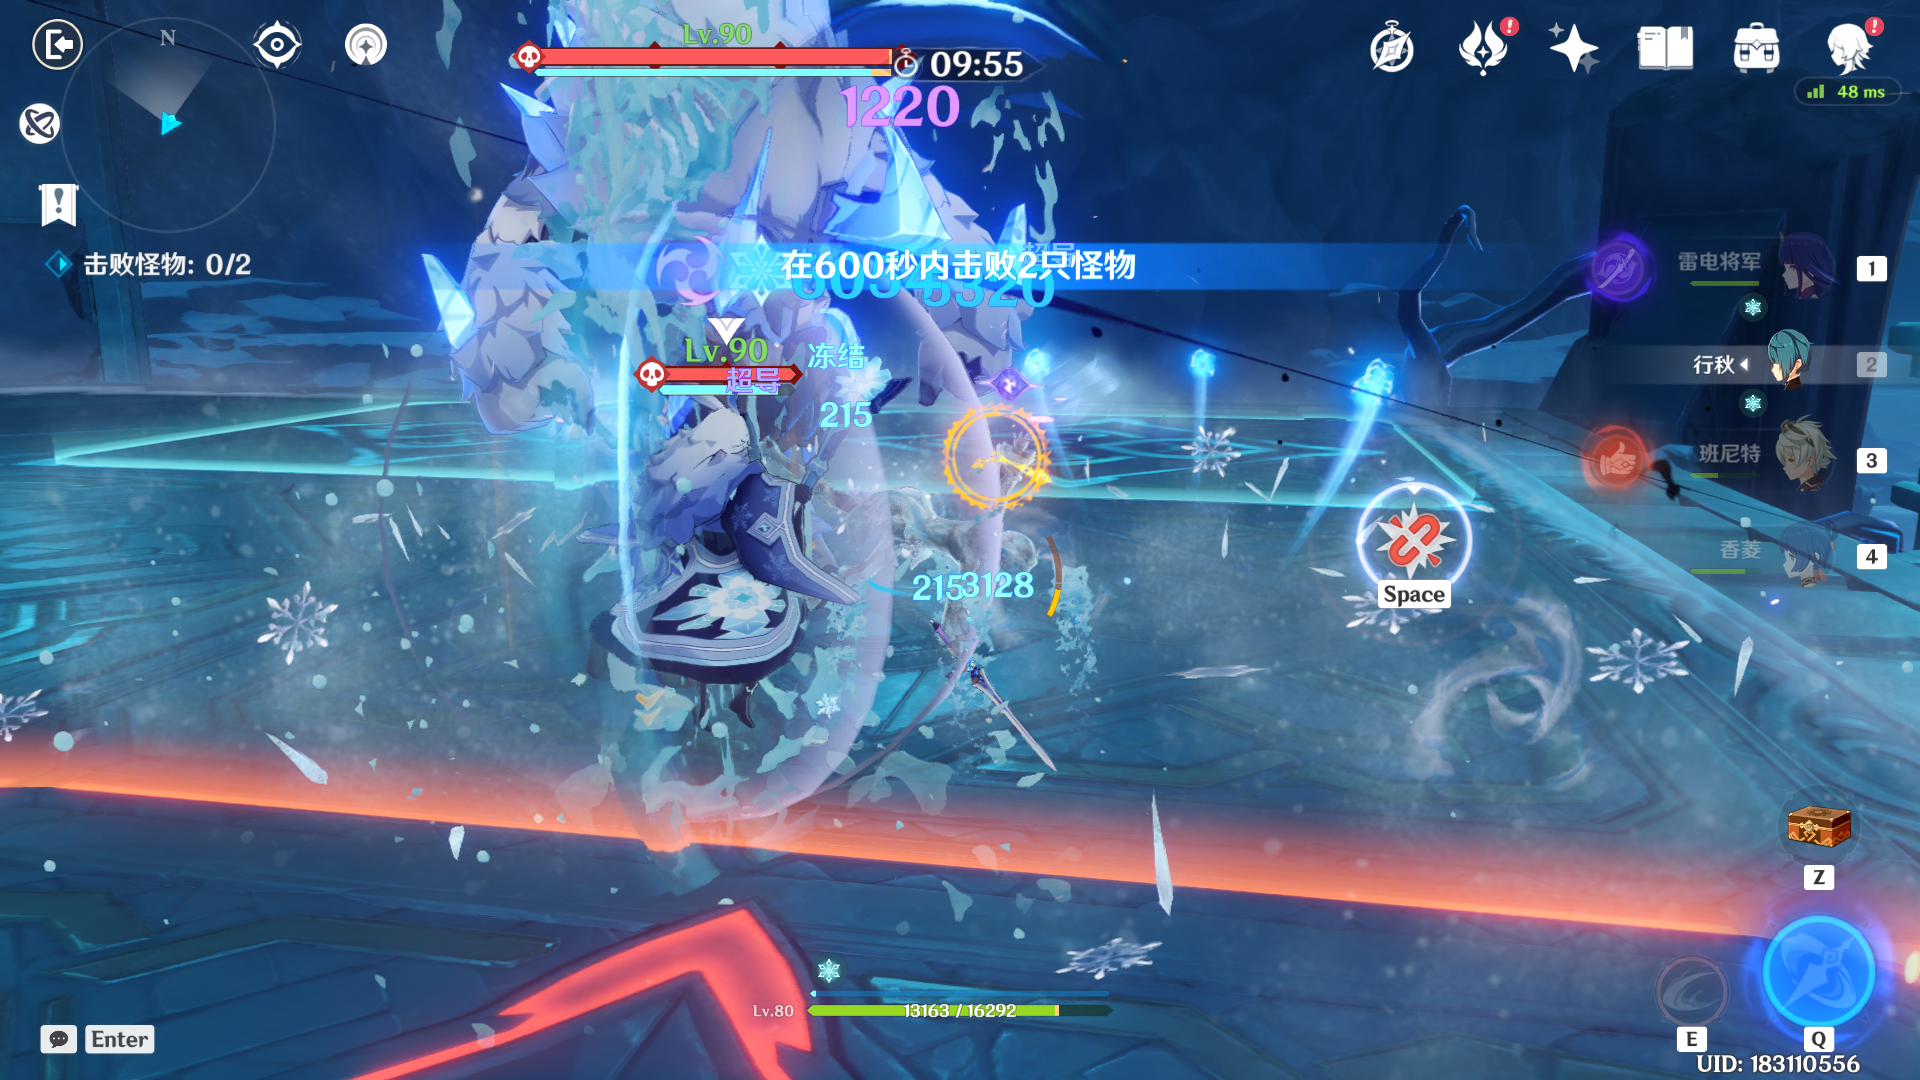bosshili: (398, 3, 1062, 665)
caster: (541, 357, 898, 803)
